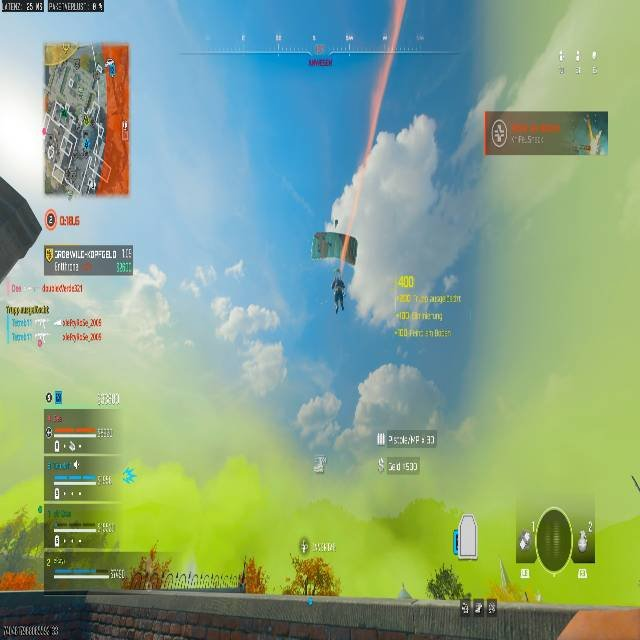player: (237, 557, 264, 594), (330, 276, 348, 316)
